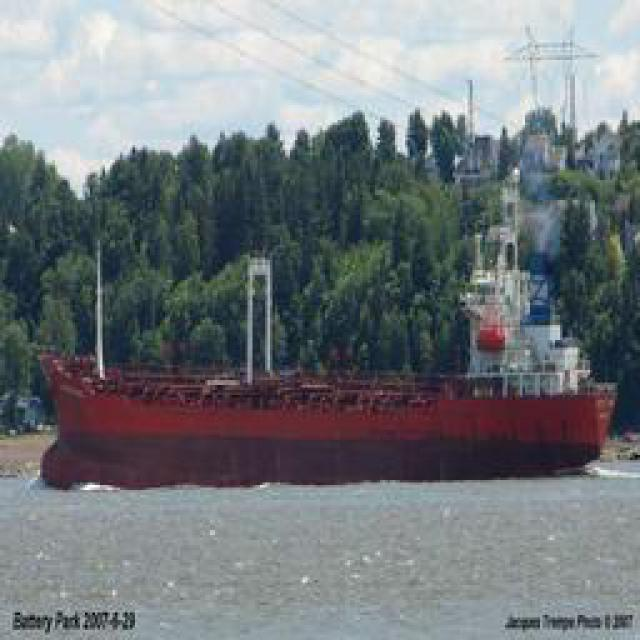Ship: (41, 359, 611, 489)
